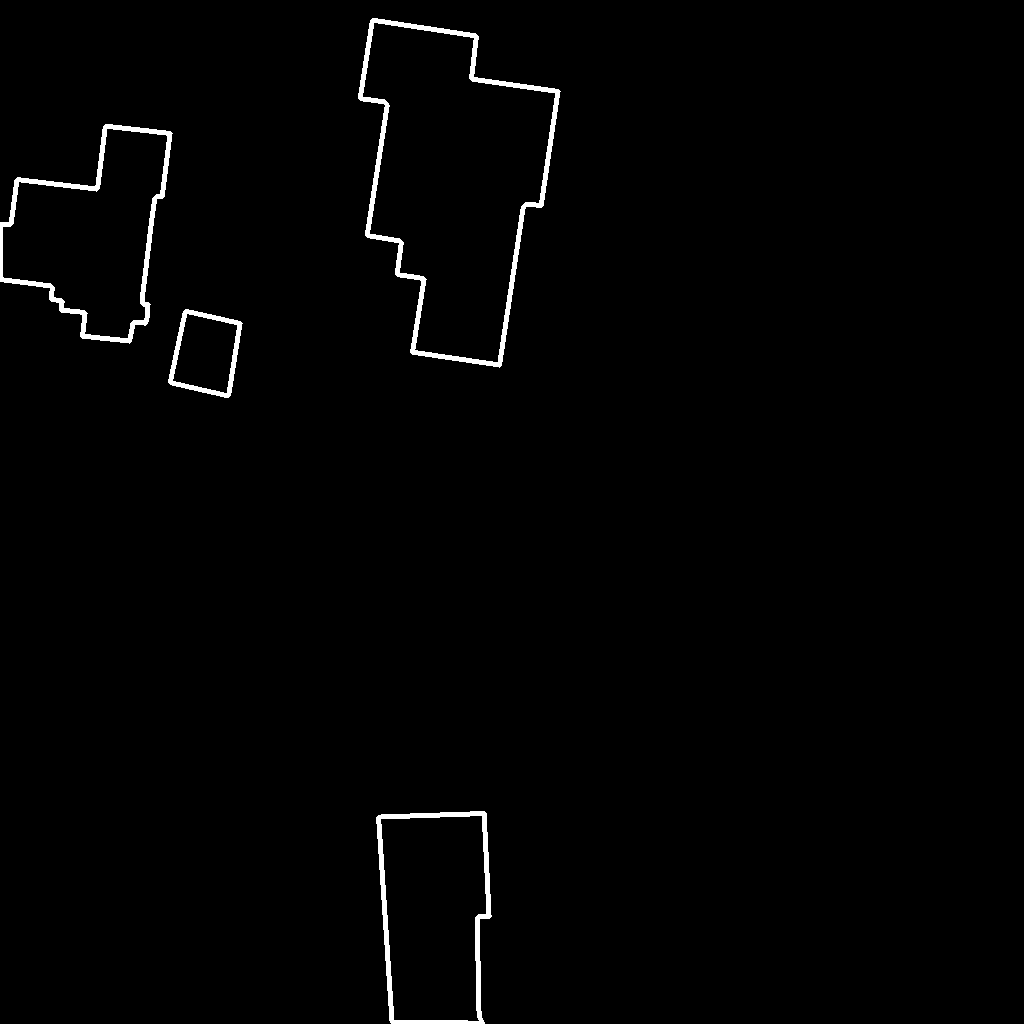building: (360, 20, 559, 366), (0, 126, 171, 342), (378, 813, 490, 1024), (170, 311, 241, 397)
